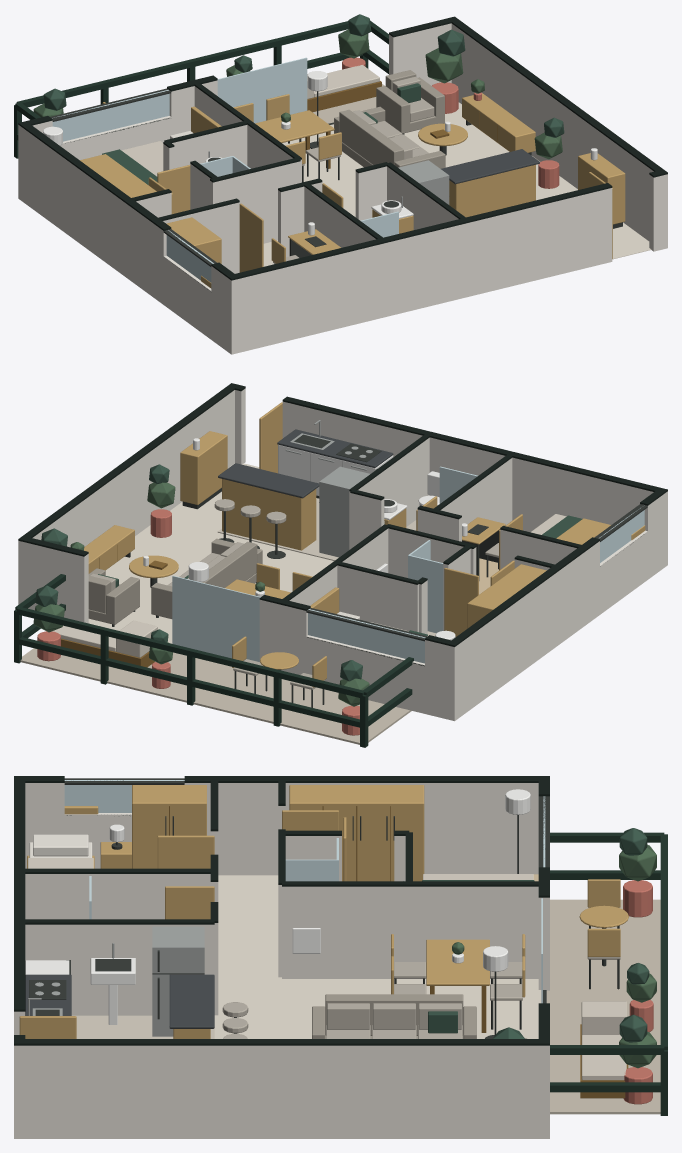
The model's file is interior-tipo-a.glb.
The picture shows the model from 3 angles, top to bottom: view 1: azimuth 30°, elevation 25°; view 2: azimuth 150°, elevation 25°; view 3: azimuth 270°, elevation 25°; orthographic projection. The views are drawn at different scales.
Visible parts, largest first — view 1: VIS__INTA_PAREDE, VIS__INTA_MADEIRA, VIS__INTA_CORTE, VIS__INTA_VIDRO, VIS__INTA_PISO, VIS__INTA_ESTOFADO, VIS__INTA_GUARDACORPO, VIS__INTA_SALVIA, VIS__INTA_FOLHA, VIS__INTA_ESCURO, VIS__INTA_TECIDO2, VIS__INTA_ESTOFADO2 (+6 smaller); view 2: VIS__INTA_PAREDE, VIS__INTA_MADEIRA, VIS__INTA_VIDRO, VIS__INTA_CORTE, VIS__INTA_GUARDACORPO, VIS__INTA_VARANDA, VIS__INTA_PISO, VIS__INTA_ESTOFADO, VIS__INTA_ESCURO, VIS__INTA_BRANCO, VIS__INTA_INOX, VIS__INTA_BANCADA (+7 smaller); view 3: VIS__INTA_PAREDE, VIS__INTA_MADEIRA, VIS__INTA_CORTE, VIS__INTA_PISO, VIS__INTA_VARANDA, VIS__INTA_ESTOFADO2, VIS__INTA_GUARDACORPO, VIS__INTA_TECIDO2, VIS__INTA_ESCURO, VIS__INTA_BRANCO, VIS__INTA_INOX, VIS__INTA_VIDRO (+8 smaller).
Boxes of the visible parts, x1,y1,x2,y2 form: VIS__INTA_PAREDE: (18,23,667,354); VIS__INTA_MADEIRA: (80,93,625,288); VIS__INTA_CORTE: (18,16,667,289); VIS__INTA_VIDRO: (52,57,398,282); VIS__INTA_PISO: (263,102,651,266); VIS__INTA_ESTOFADO: (334,70,445,168); VIS__INTA_GUARDACORPO: (14,20,388,158); VIS__INTA_SALVIA: (43,14,564,184); VIS__INTA_FOLHA: (33,29,562,159); VIS__INTA_ESCURO: (50,88,622,266); VIS__INTA_TECIDO2: (121,65,379,176); VIS__INTA_ESTOFADO2: (273,76,434,263); VIS__INTA_PAREDE: (18,388,667,721); VIS__INTA_MADEIRA: (84,402,645,687); VIS__INTA_VIDRO: (172,466,644,663); VIS__INTA_CORTE: (18,383,667,666); VIS__INTA_GUARDACORPO: (14,574,413,747); VIS__INTA_VARANDA: (20,648,411,744); VIS__INTA_PISO: (88,463,333,643); VIS__INTA_ESTOFADO: (88,538,262,624); VIS__INTA_ESCURO: (112,434,647,707); VIS__INTA_BRANCO: (143,438,467,640); VIS__INTA_INOX: (285,420,372,557); VIS__INTA_BANCADA: (218,429,393,498); VIS__INTA_PAREDE: (14,783,549,1138); VIS__INTA_MADEIRA: (19,785,628,1038); VIS__INTA_CORTE: (14,776,549,1045); VIS__INTA_PISO: (214,875,541,1038); VIS__INTA_VARANDA: (546,899,660,1114); VIS__INTA_ESTOFADO2: (222,956,620,1038); VIS__INTA_GUARDACORPO: (550,832,667,1115); VIS__INTA_TECIDO2: (28,858,626,1080); VIS__INTA_ESCURO: (29,778,619,1038); VIS__INTA_BRANCO: (25,789,530,1024); VIS__INTA_INOX: (28,880,404,1036); VIS__INTA_VIDRO: (64,780,545,1003).
Bounding box in the file's own units: 8.45 × 1.51 × 8.72.
